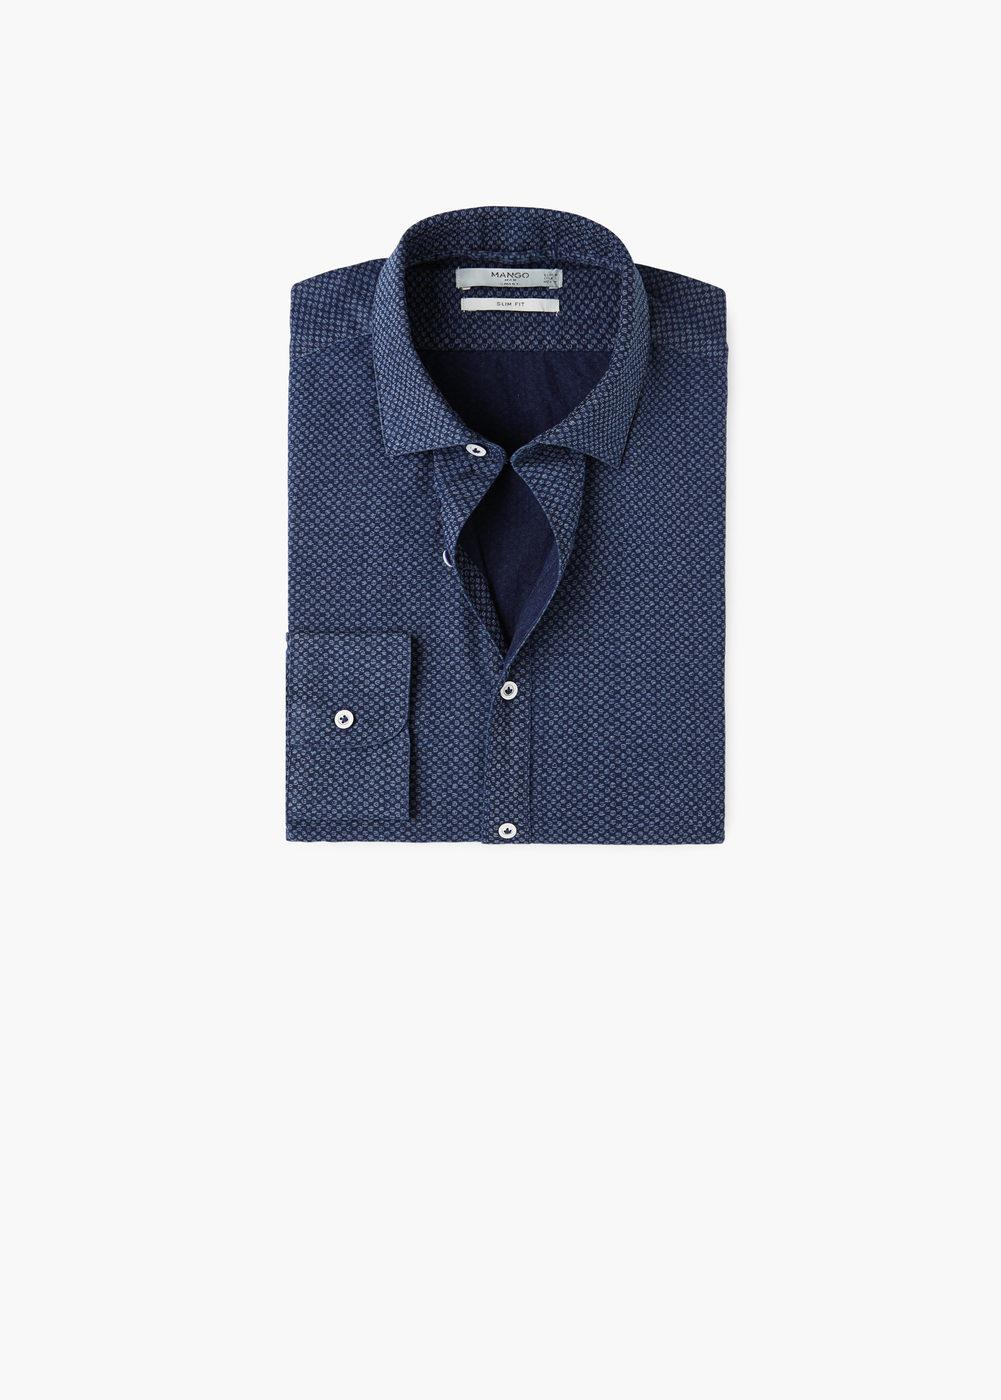teeshirt: (263, 199, 753, 880)
